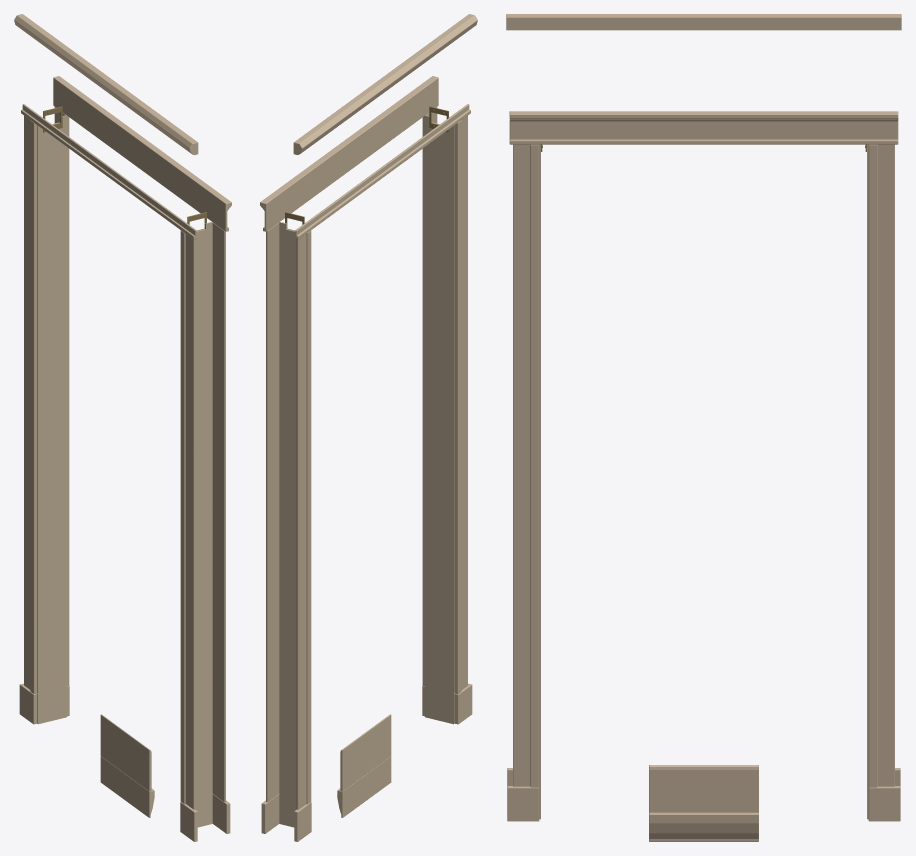
Rendered from alcove-partition.glb.
3 renders of one model, left to right at view 1: azimuth 30°, elevation 25°; view 2: azimuth 150°, elevation 25°; view 3: azimuth 270°, elevation 25°, orthographic. The views are drawn at different scales.
Parts seen in each view (by area): view 1: AlcoveDoorSurround, AlcoveJambLining, AlcoveHeaderCap, AlcoveSkirting, AlcoveCrown; view 2: AlcoveDoorSurround, AlcoveJambLining, AlcoveHeaderCap, AlcoveSkirting, AlcoveCrown; view 3: AlcoveDoorSurround, AlcoveHeaderCap, AlcoveSkirting, AlcoveCrown, AlcoveJambLining.
Part boxes in pixels (x1,y1,x2,y2): AlcoveDoorSurround: (19,76,231,841); AlcoveJambLining: (37,115,212,827); AlcoveHeaderCap: (14,14,198,154); AlcoveSkirting: (100,714,151,791); AlcoveCrown: (100,756,154,817); AlcoveDoorSurround: (260,76,472,841); AlcoveJambLining: (279,115,454,827); AlcoveHeaderCap: (293,14,477,154); AlcoveSkirting: (340,714,391,791); AlcoveCrown: (337,756,391,817); AlcoveDoorSurround: (507,111,900,821); AlcoveHeaderCap: (506,14,901,30); AlcoveSkirting: (649,765,758,812); AlcoveCrown: (649,812,758,841); AlcoveJambLining: (539,144,868,819).
Bounding box in the file's own units: 0.5192 × 8.21 × 3.6.
